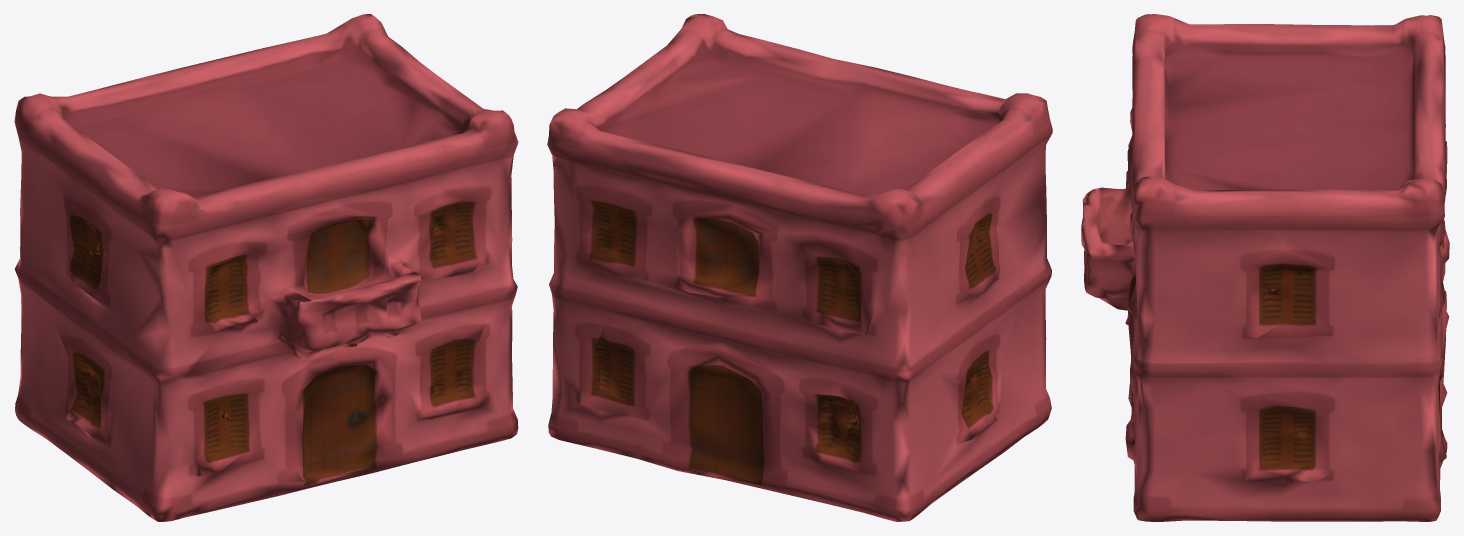
File: house_a.glb
3 views of the same model, side by side, from view 1: azimuth 30°, elevation 25°; view 2: azimuth 150°, elevation 25°; view 3: azimuth 270°, elevation 25° (orthographic). The views are drawn at different scales.
Visible parts, largest first — view 1: house_a; view 2: house_a; view 3: house_a.
Boxes of the visible parts, x1=… form: house_a: x1=14, y1=14, x2=518, y2=521; house_a: x1=547, y1=14, x2=1052, y2=521; house_a: x1=1081, y1=14, x2=1449, y2=521.
Bounding box in the file's own units: 5.5 × 4.5 × 4.5.
Materials: 1 (1 with a texture image).
